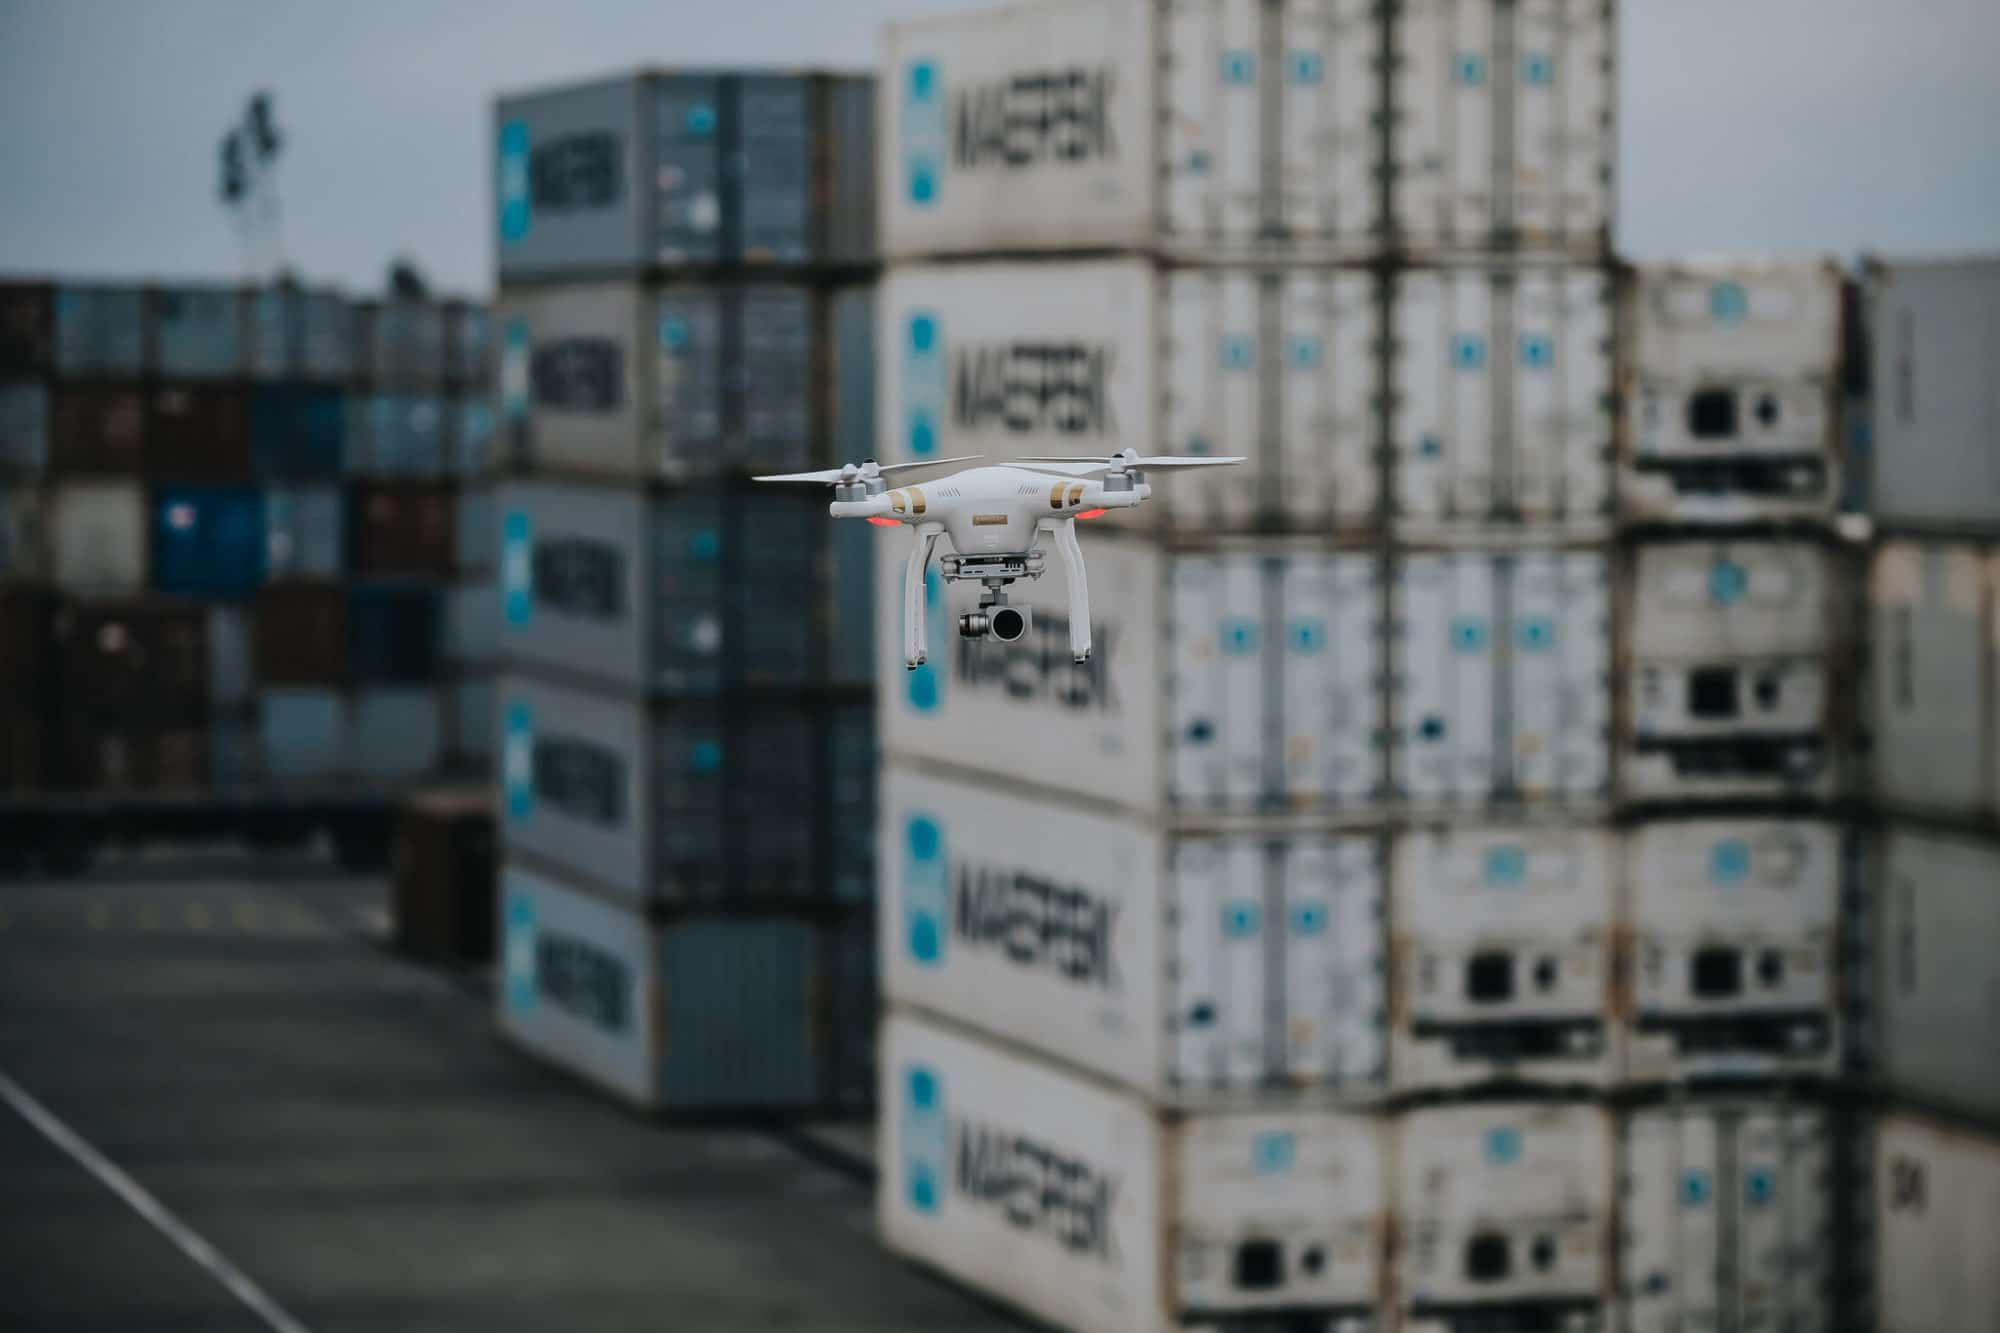drone: (749, 448, 1248, 674)
